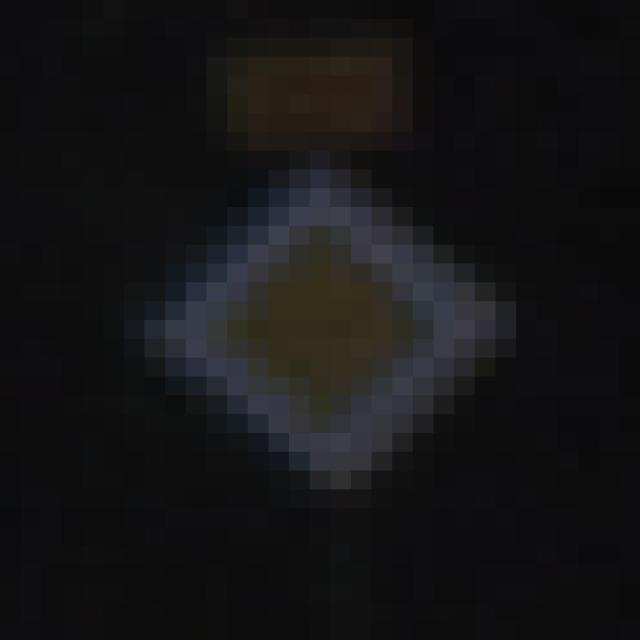Main Road: (104, 114, 538, 547)
